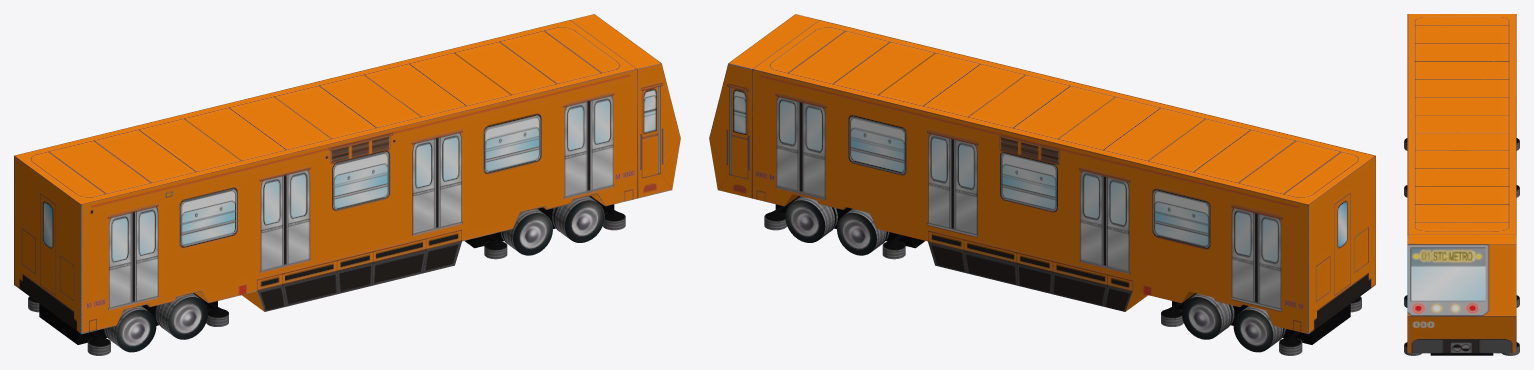
Rendered from Metro_final.fbx.
The picture shows the model from 3 angles, left to right: view 1: azimuth 30°, elevation 25°; view 2: azimuth 150°, elevation 25°; view 3: azimuth 270°, elevation 25°; orthographic projection. The views are drawn at different scales.
Visible parts, largest first — view 1: Metro_wagon_final; view 2: Metro_wagon_final; view 3: Metro_wagon_final.
Part boxes in pixels (x1=…): Metro_wagon_final: x1=14, y1=14, x2=680, y2=355; Metro_wagon_final: x1=709, y1=14, x2=1375, y2=355; Metro_wagon_final: x1=1404, y1=14, x2=1519, y2=355.
Bounding box in the file's own units: 1799 × 460 × 370.
